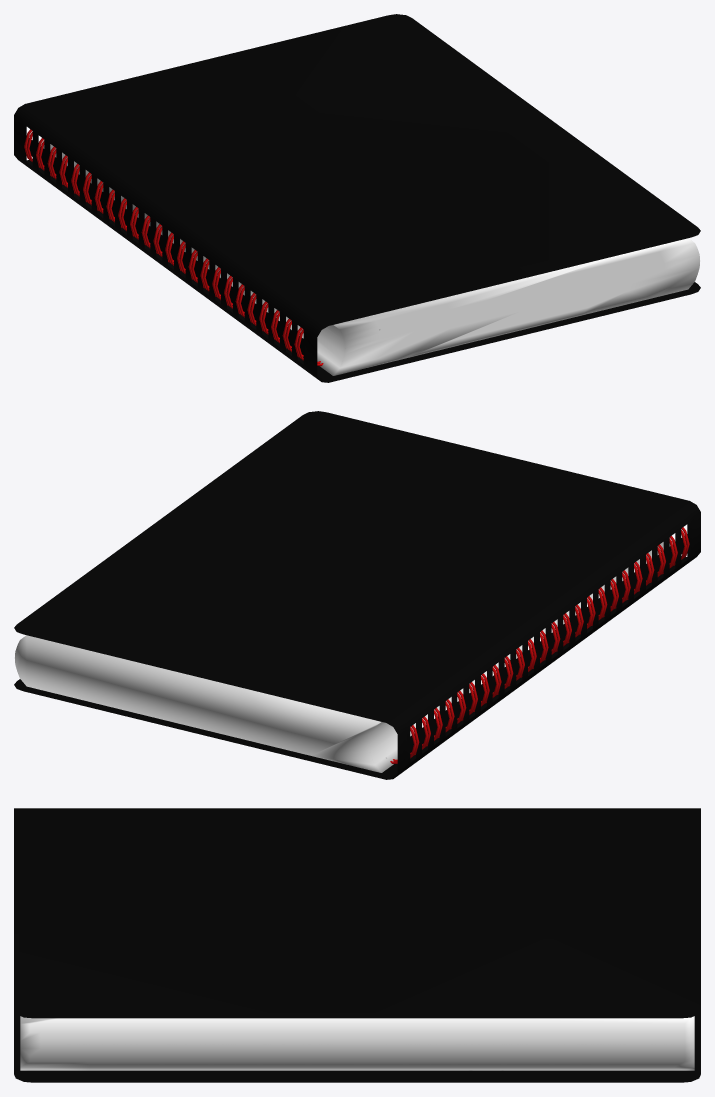
File: spiral.glb
3 views of the same model, one above another, from view 1: azimuth 30°, elevation 25°; view 2: azimuth 150°, elevation 25°; view 3: azimuth 270°, elevation 25° (orthographic). The views are drawn at different scales.
Visible parts, largest first — view 1: Cover; view 2: Cover; view 3: Cover.
Boxes of the visible parts, <box> form: Cover: <box>14,14,700,382</box>; Cover: <box>14,411,700,779</box>; Cover: <box>14,808,700,1082</box>.
Size of the model in its own units: 2.88 by 0.3976 by 3.85.
Materials: 1 (1 with a texture image).
